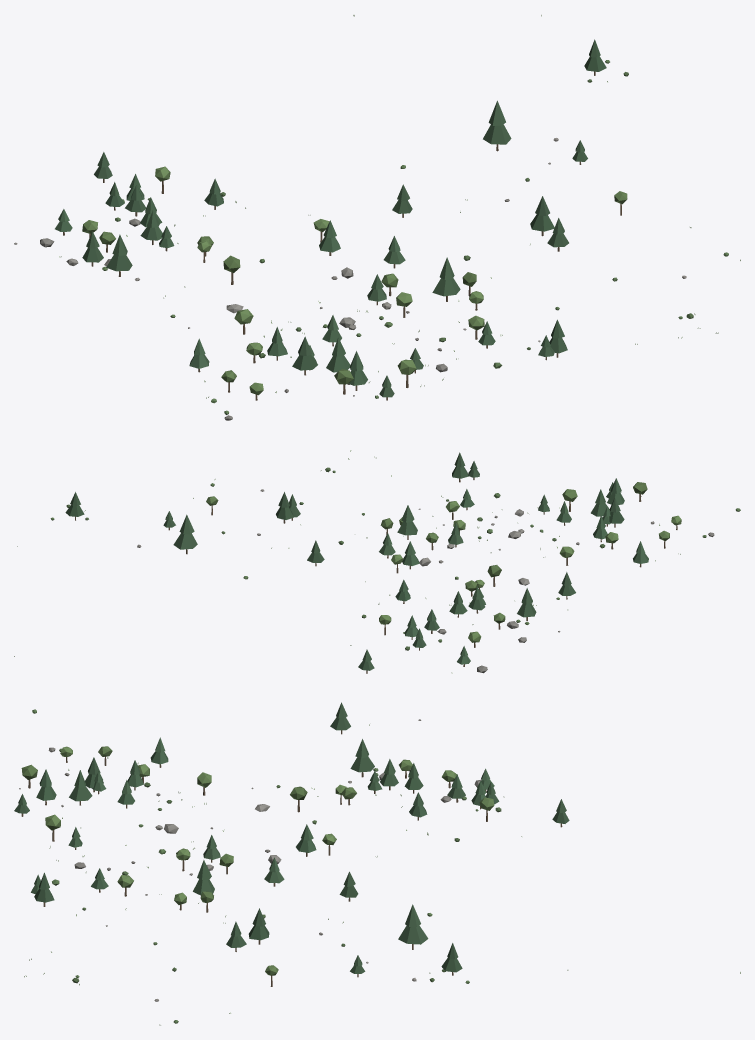
The model's file is arch_land_scatter_c17_18_lod1.glb.
3 renders of one model, top to bottom at view 1: azimuth 30°, elevation 25°; view 2: azimuth 150°, elevation 25°; view 3: azimuth 270°, elevation 25°, orthographic. The views are drawn at different scales.
Parts seen in each view (by area): view 1: arch_land_scatter_c17_18_lod1; view 2: arch_land_scatter_c17_18_lod1; view 3: arch_land_scatter_c17_18_lod1.
Part boxes in pixels (x1=…): arch_land_scatter_c17_18_lod1: x1=14, y1=15, x2=740, y2=420; arch_land_scatter_c17_18_lod1: x1=14, y1=450, x2=740, y2=673; arch_land_scatter_c17_18_lod1: x1=14, y1=702, x2=740, y2=1025.
Size of the model in its own units: 220 by 33.88 by 240.
